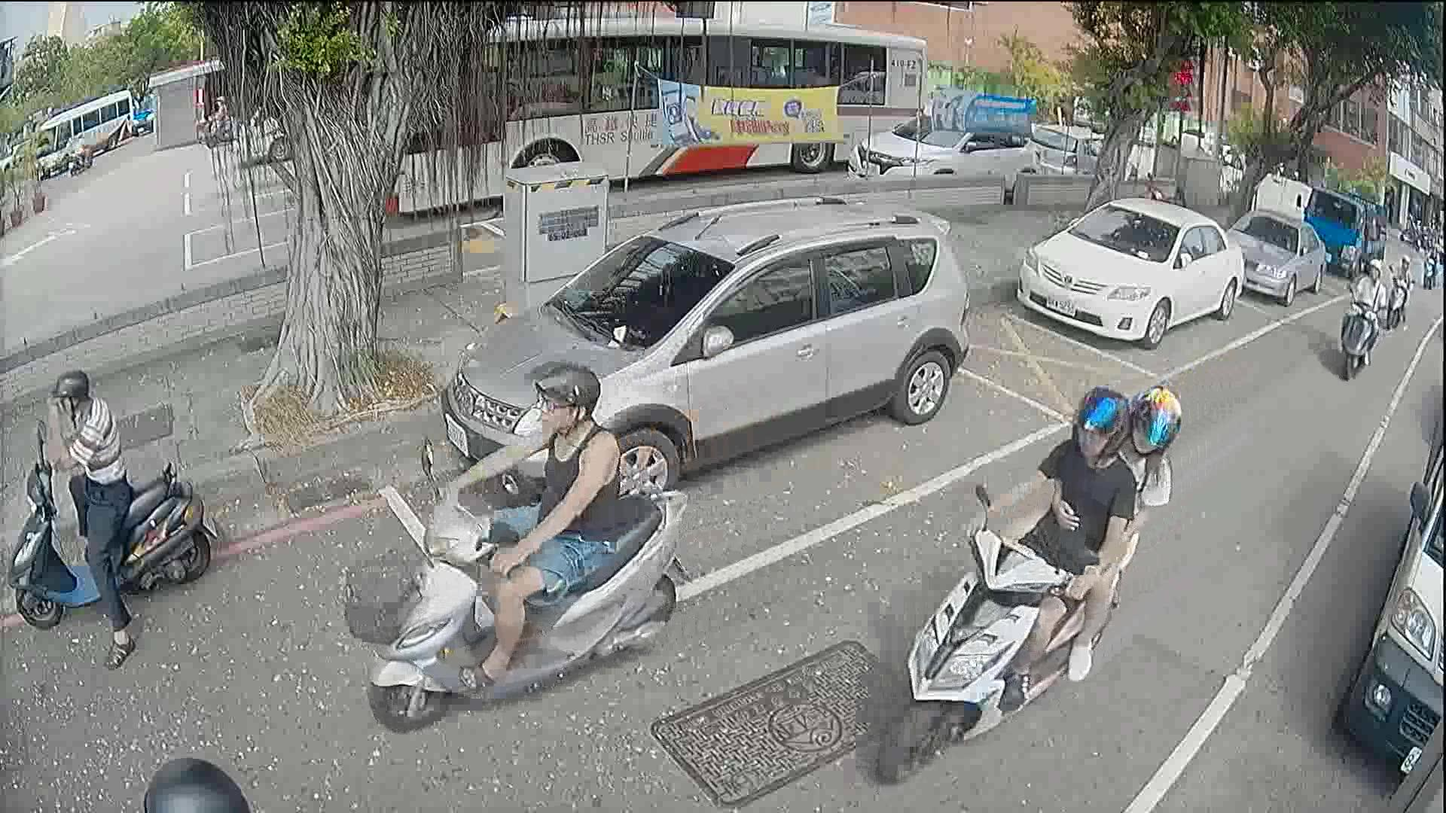person: (428, 358, 630, 693), (960, 377, 1142, 714), (1003, 386, 1187, 664), (35, 368, 142, 664), (142, 755, 256, 811), (1347, 257, 1385, 361), (201, 92, 227, 135), (1389, 255, 1413, 284), (1420, 238, 1438, 273), (68, 130, 83, 162)
